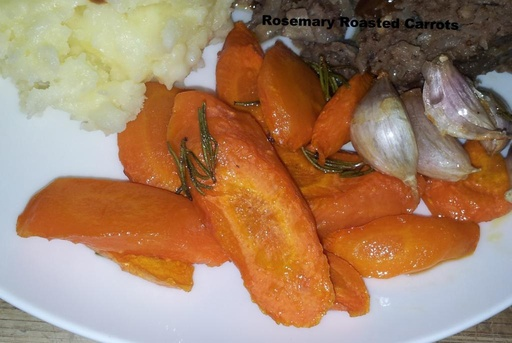background: (0, 0, 410, 175)
